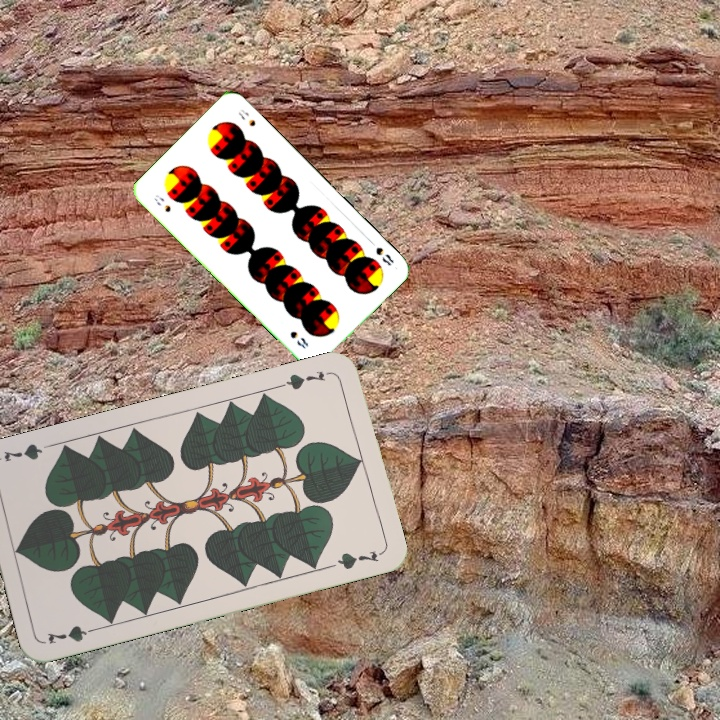G7: (43, 621, 102, 647), (276, 366, 328, 393)
S8: (371, 243, 396, 268), (150, 190, 173, 215)
